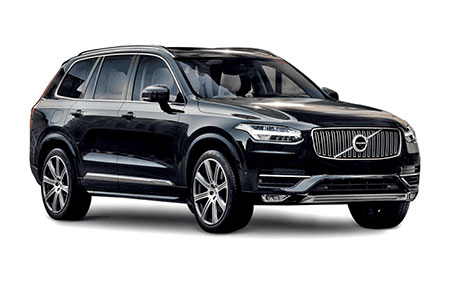pickup: (29, 44, 421, 235)
